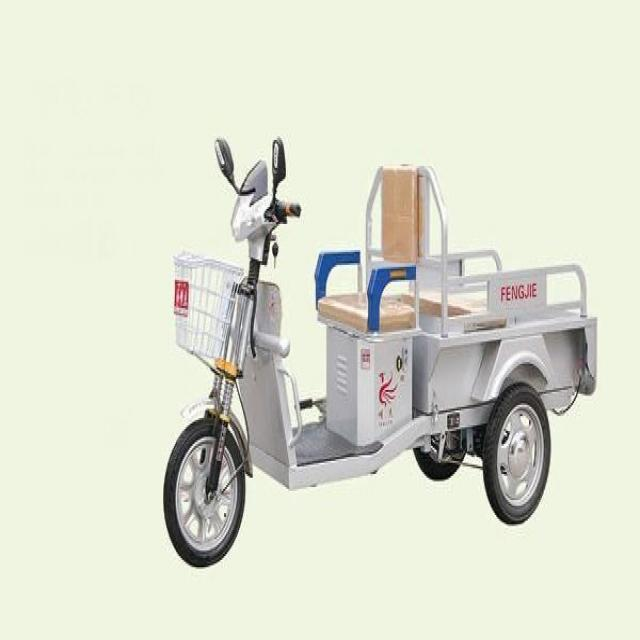tricycle: (159, 129, 595, 567)
